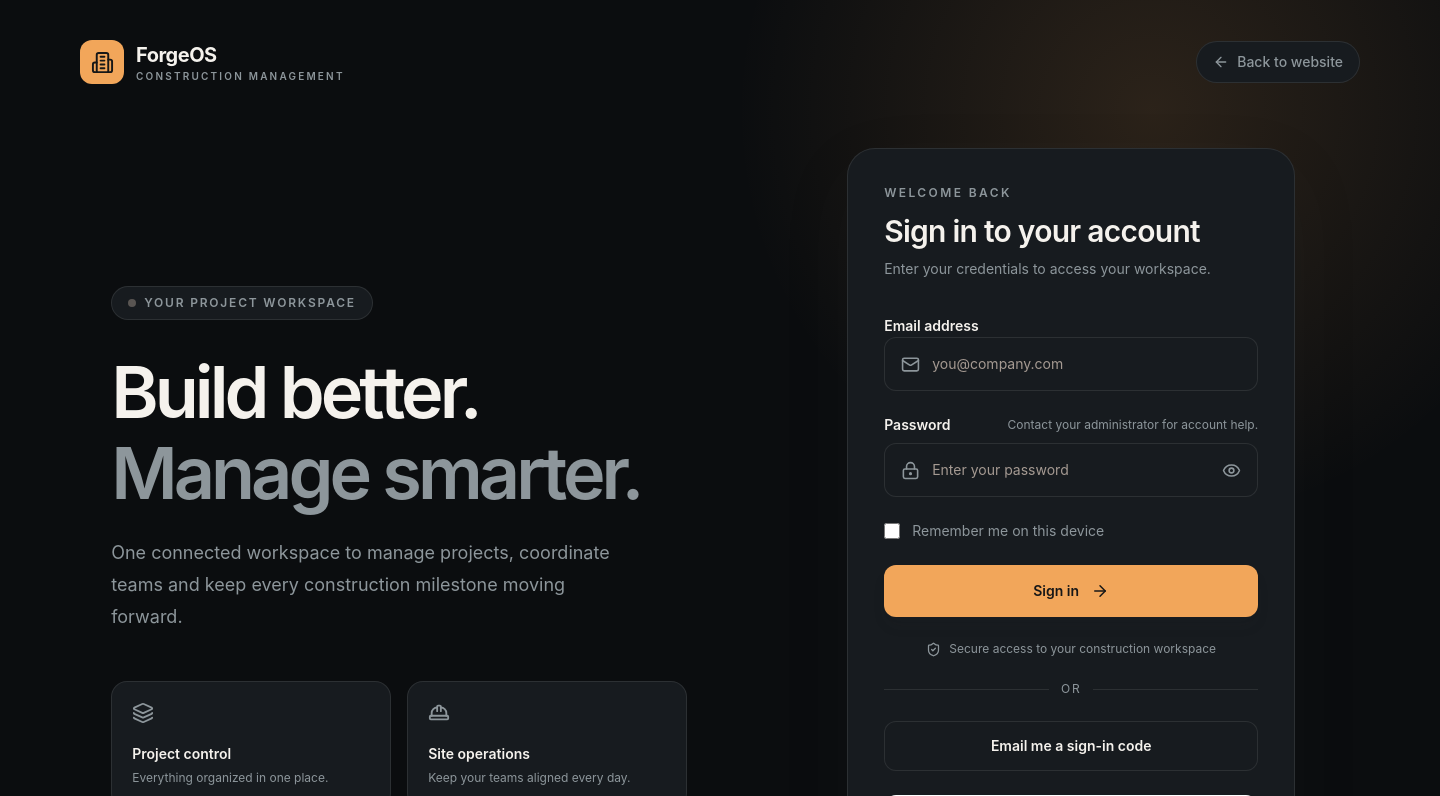
Test case: LoginPage — OTP sign-in mode › switching modes replaces the password field with the OTP explainer
Click the button "Email me a sign-in code" at (1071, 746), box 884,721 -> 1258,771
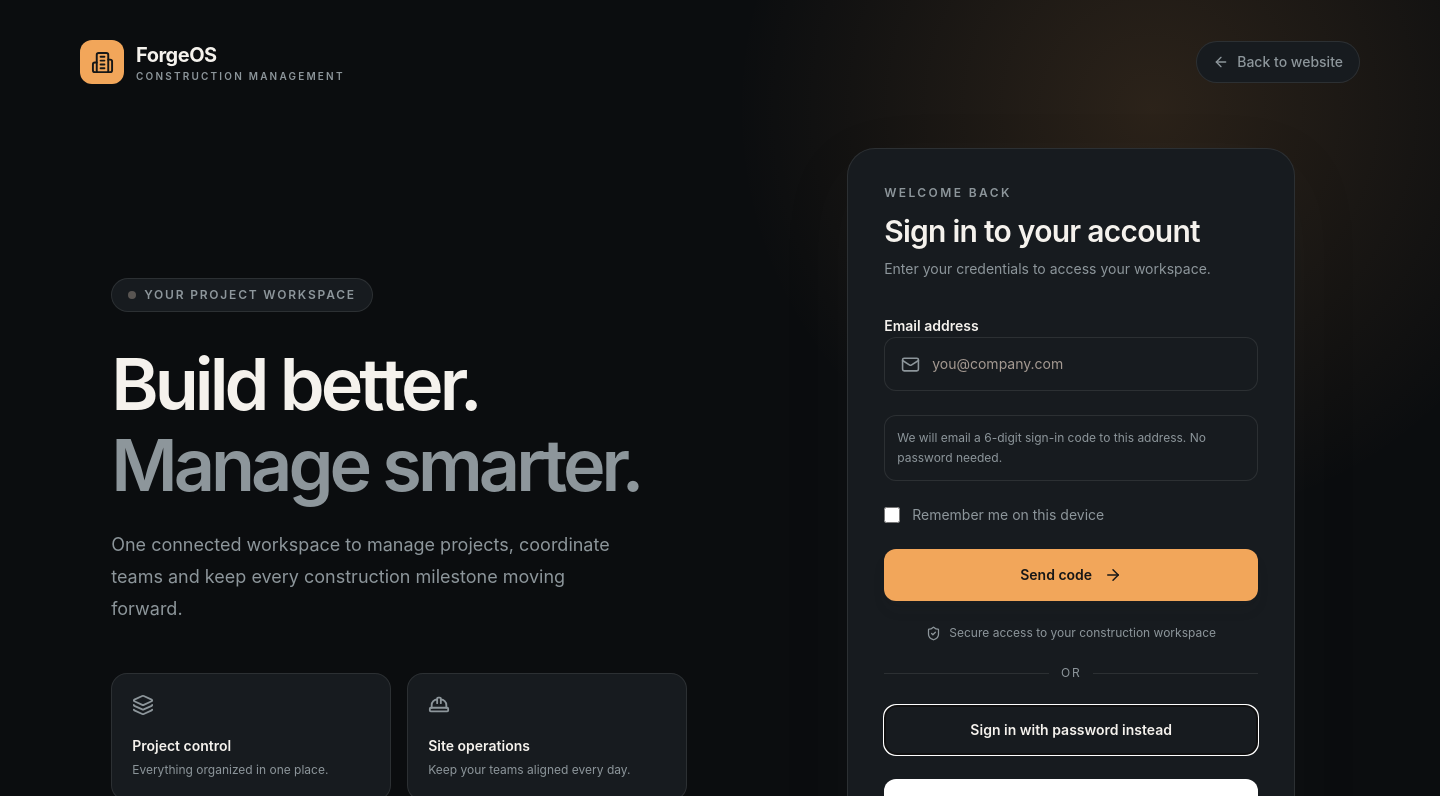
Expected: the button "Send code" is enabled, 884,549 -> 1258,601
Expected: the text "We will email a 6-digit sign-in code to this address. No password needed." is shown, 884,415 -> 1258,481
